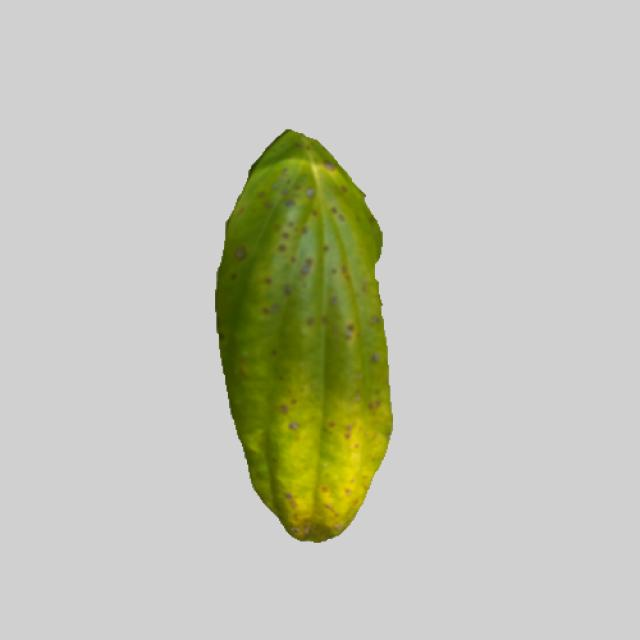yellow-mottle-virus: (206, 132, 399, 543)
